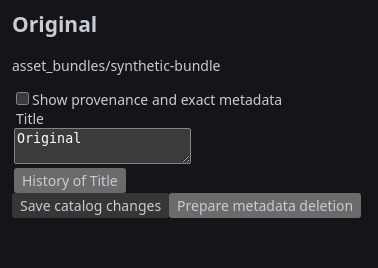
Test: reports a current preview failure and retains the private operation
Click the button "Prepare metadata deletion" at (265, 205), box [169, 193, 361, 218]
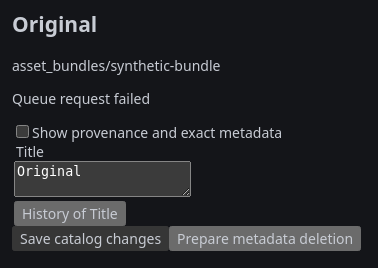
Expected: the message reads "Queue request failed", [12, 89, 150, 108]
